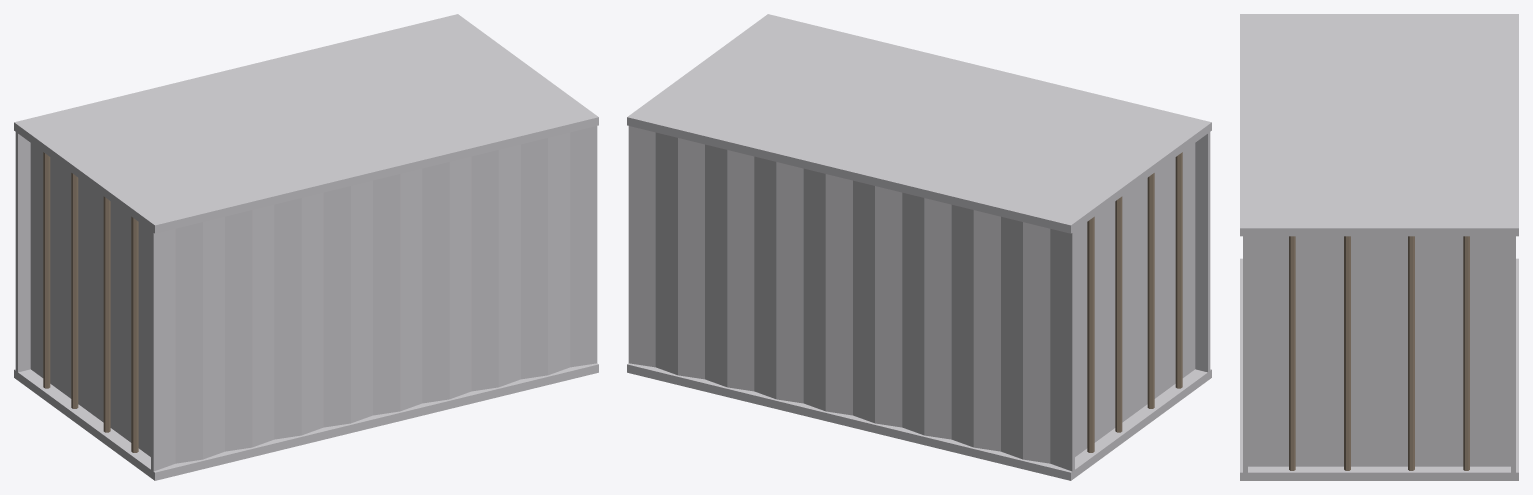
Rendered from Mesh_Container_01.fbx.
The picture shows the model from 3 angles, left to right: view 1: azimuth 30°, elevation 25°; view 2: azimuth 150°, elevation 25°; view 3: azimuth 270°, elevation 25°; orthographic projection.
Parts seen in each view (by area): view 1: Mesh_Container_01; view 2: Mesh_Container_01; view 3: Mesh_Container_01.
Part boxes in pixels (left/top/right/bottom): Mesh_Container_01: left=14, top=14, right=598, bottom=480; Mesh_Container_01: left=627, top=14, right=1211, bottom=480; Mesh_Container_01: left=1240, top=14, right=1518, bottom=480.
Size of the model in its own units: 400 by 220 by 220.
